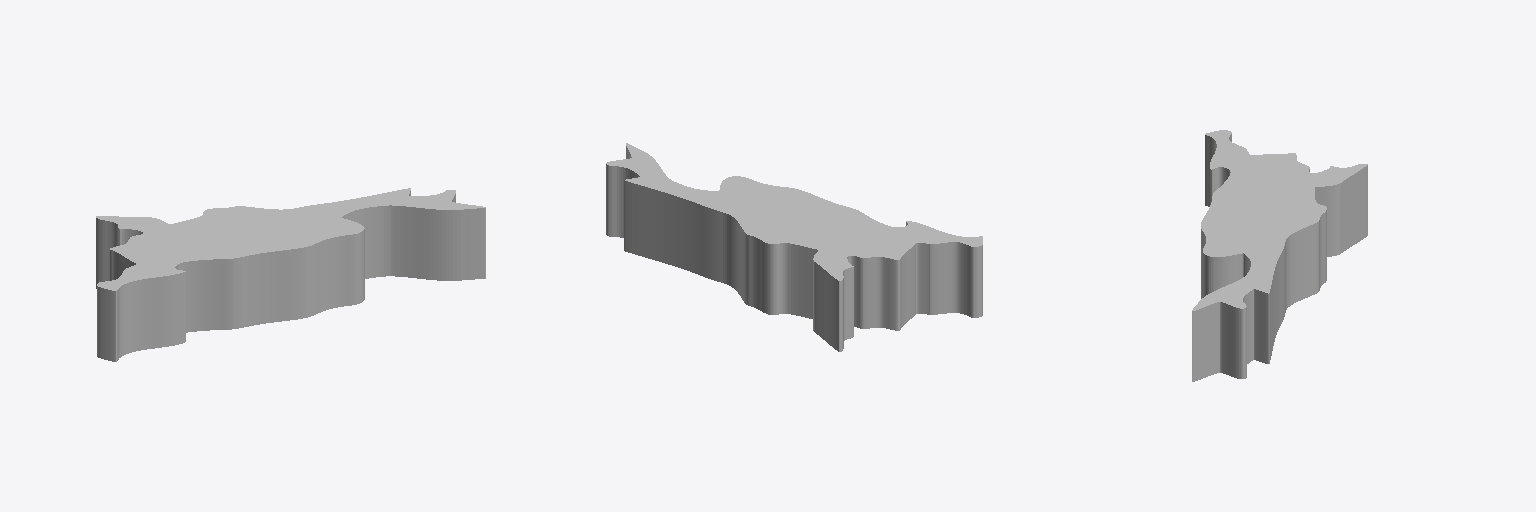
Rendered from Asia_04.obj.
3 views of the same model, side by side, from view 1: azimuth 30°, elevation 25°; view 2: azimuth 150°, elevation 25°; view 3: azimuth 270°, elevation 25° (orthographic).
Visible parts, largest first — view 1: Asia_04_path4262; view 2: Asia_04_path4262; view 3: Asia_04_path4262.
Boxes of the visible parts, box(x1,y1,x2,y2) form: Asia_04_path4262: box(96, 188, 485, 361); Asia_04_path4262: box(606, 143, 982, 351); Asia_04_path4262: box(1192, 130, 1367, 381).
Bounding box in the file's own units: 0.5497 × 0.1 × 0.2263.